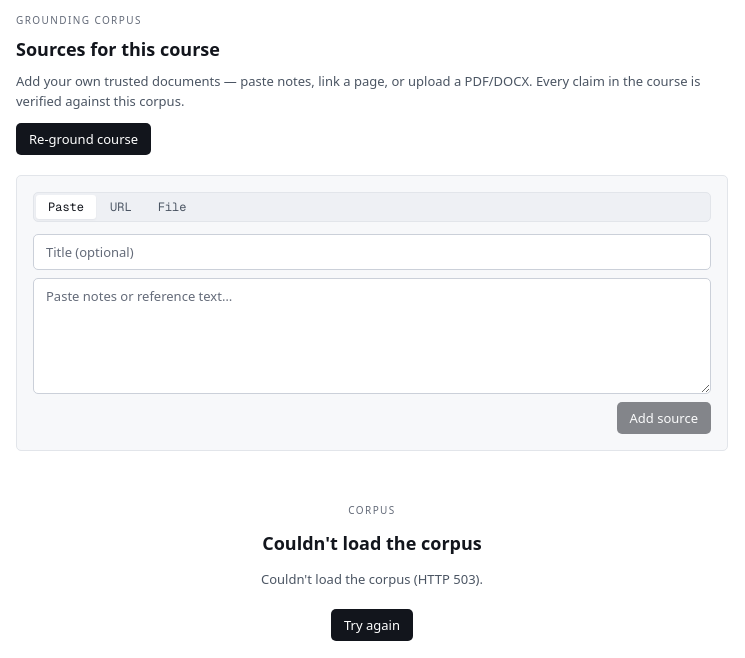
Test: CorpusPanel › surfaces a load error, then retries on Try again
The width and height of the screenshot is (745, 658).
Check: the message "Corpus Couldn't load the corpus Couldn't load the corpus (HTTP 503). Try again" is shown, box [261, 503, 483, 641]
Click the button "Try again" at (372, 625), box [331, 609, 413, 641]
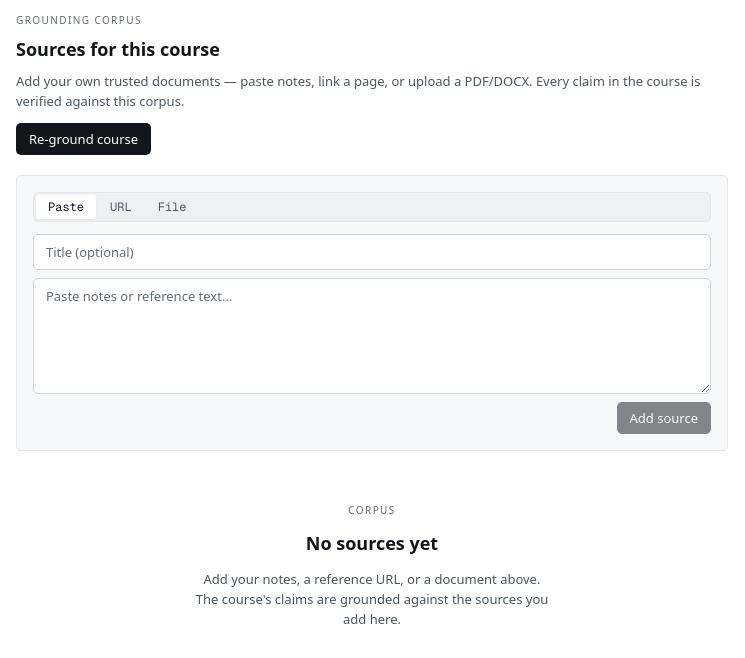
Check: the heading "No sources yet" is shown, box [306, 530, 438, 557]
